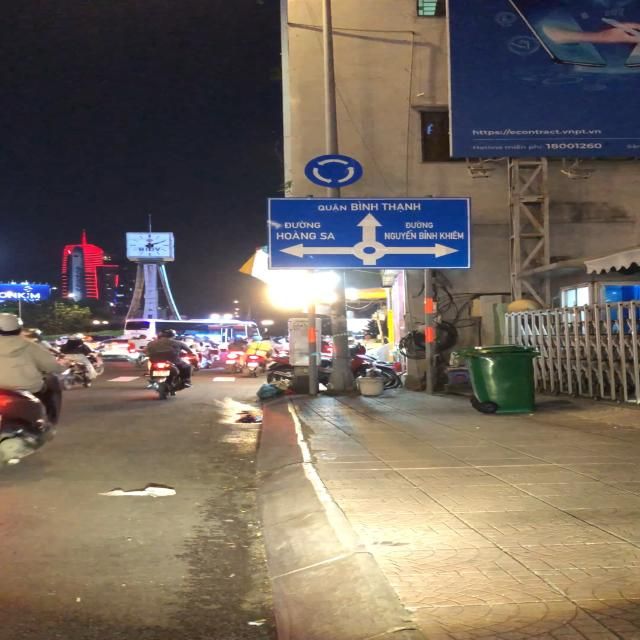Bien bao noi giao nhau chay theo vong xuyen: (304, 153, 369, 189)
